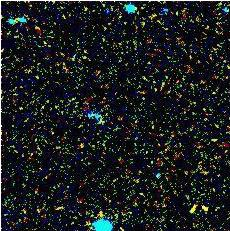star: (183, 194, 213, 224)
